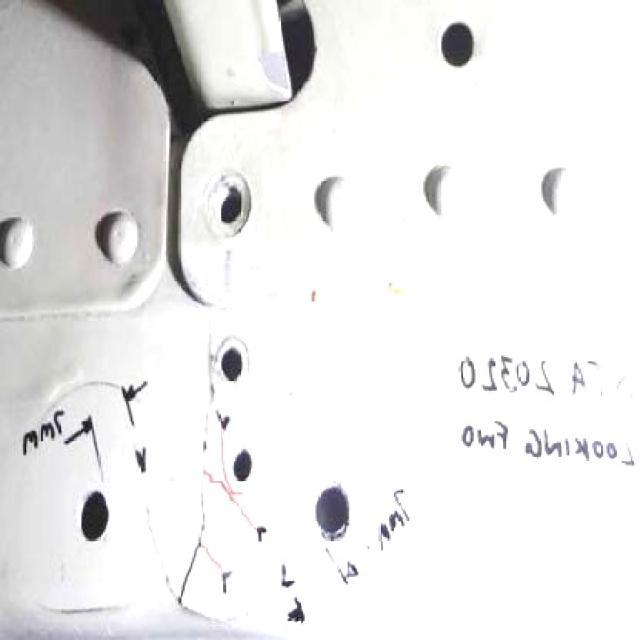crack: (178, 328, 212, 604)
